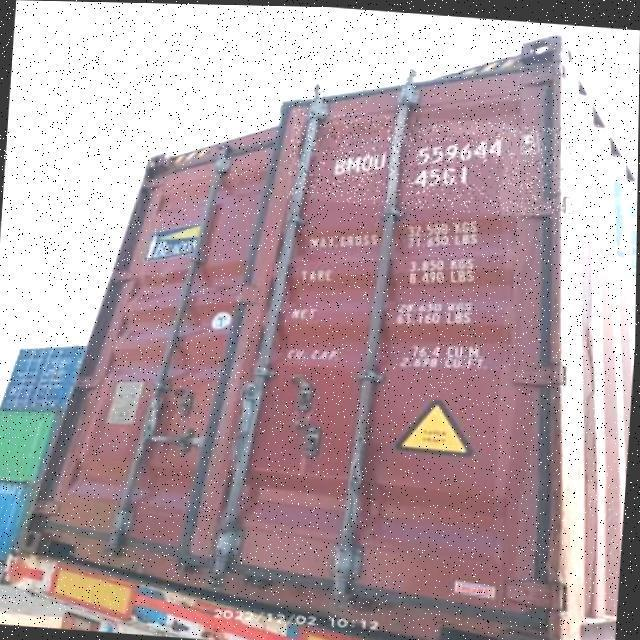container_number_h: (288, 107, 580, 218)
